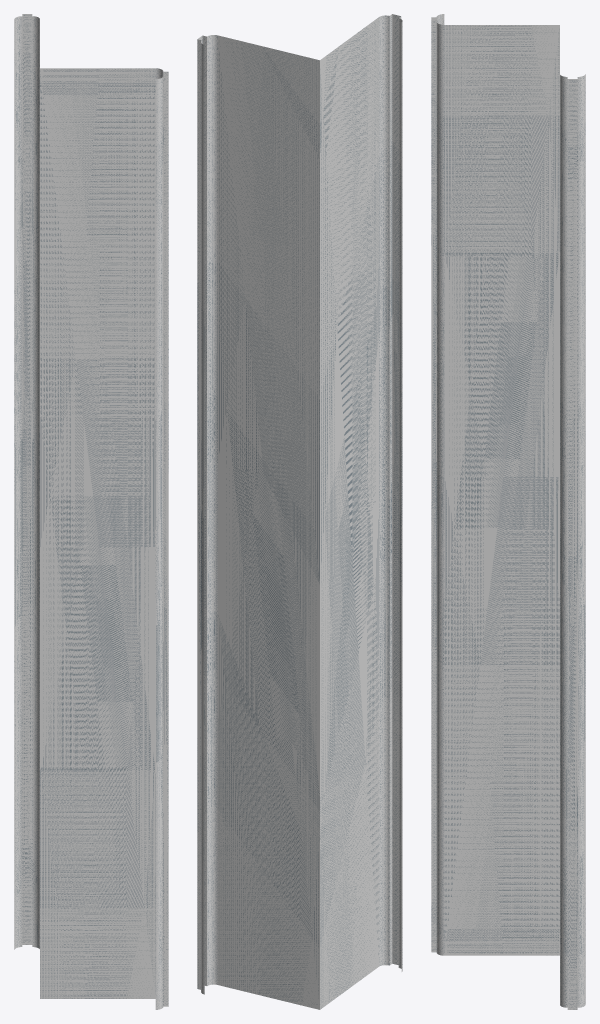
Rendered from PW_CornerFixElem_os_T1_060x060x010x400.dae.
3 renders of one model, left to right at view 1: azimuth 90°, elevation 25°; view 2: azimuth 150°, elevation 25°; view 3: azimuth 270°, elevation 25°, orthographic. The views are drawn at different scales.
Visible parts, largest first — view 1: group_0; view 2: group_0; view 3: group_0.
Boxes of the visible parts, x1,y1,x2,y2 form: group_0: (14,14,168,1009); group_0: (197,14,402,1009); group_0: (431,14,585,1009).
Bounding box in the file's own units: 23.62 × 23.62 × 157.
